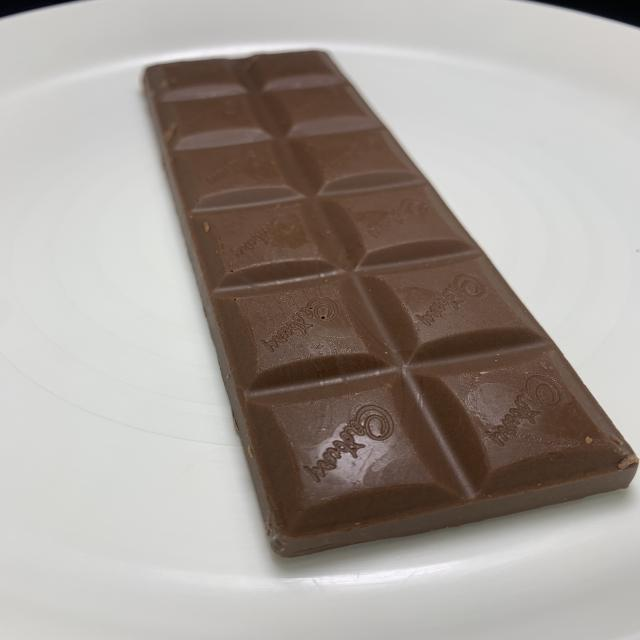Chocolate: (139, 47, 640, 562)
